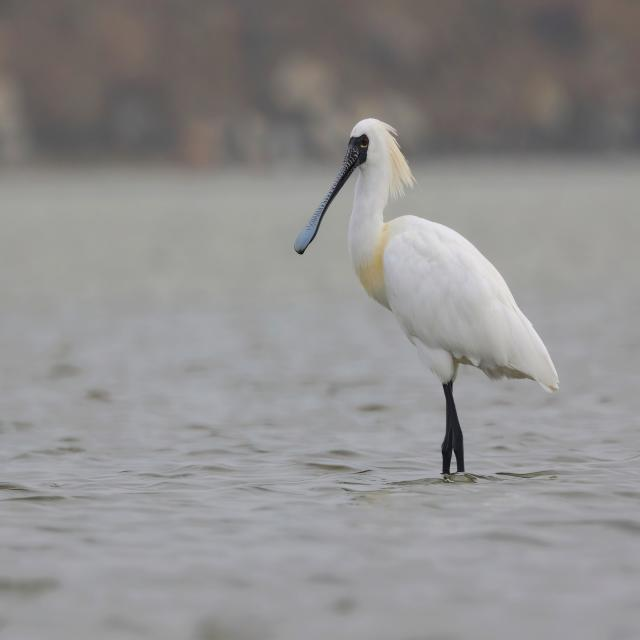Black-faced spoonbill: (295, 119, 558, 473)
